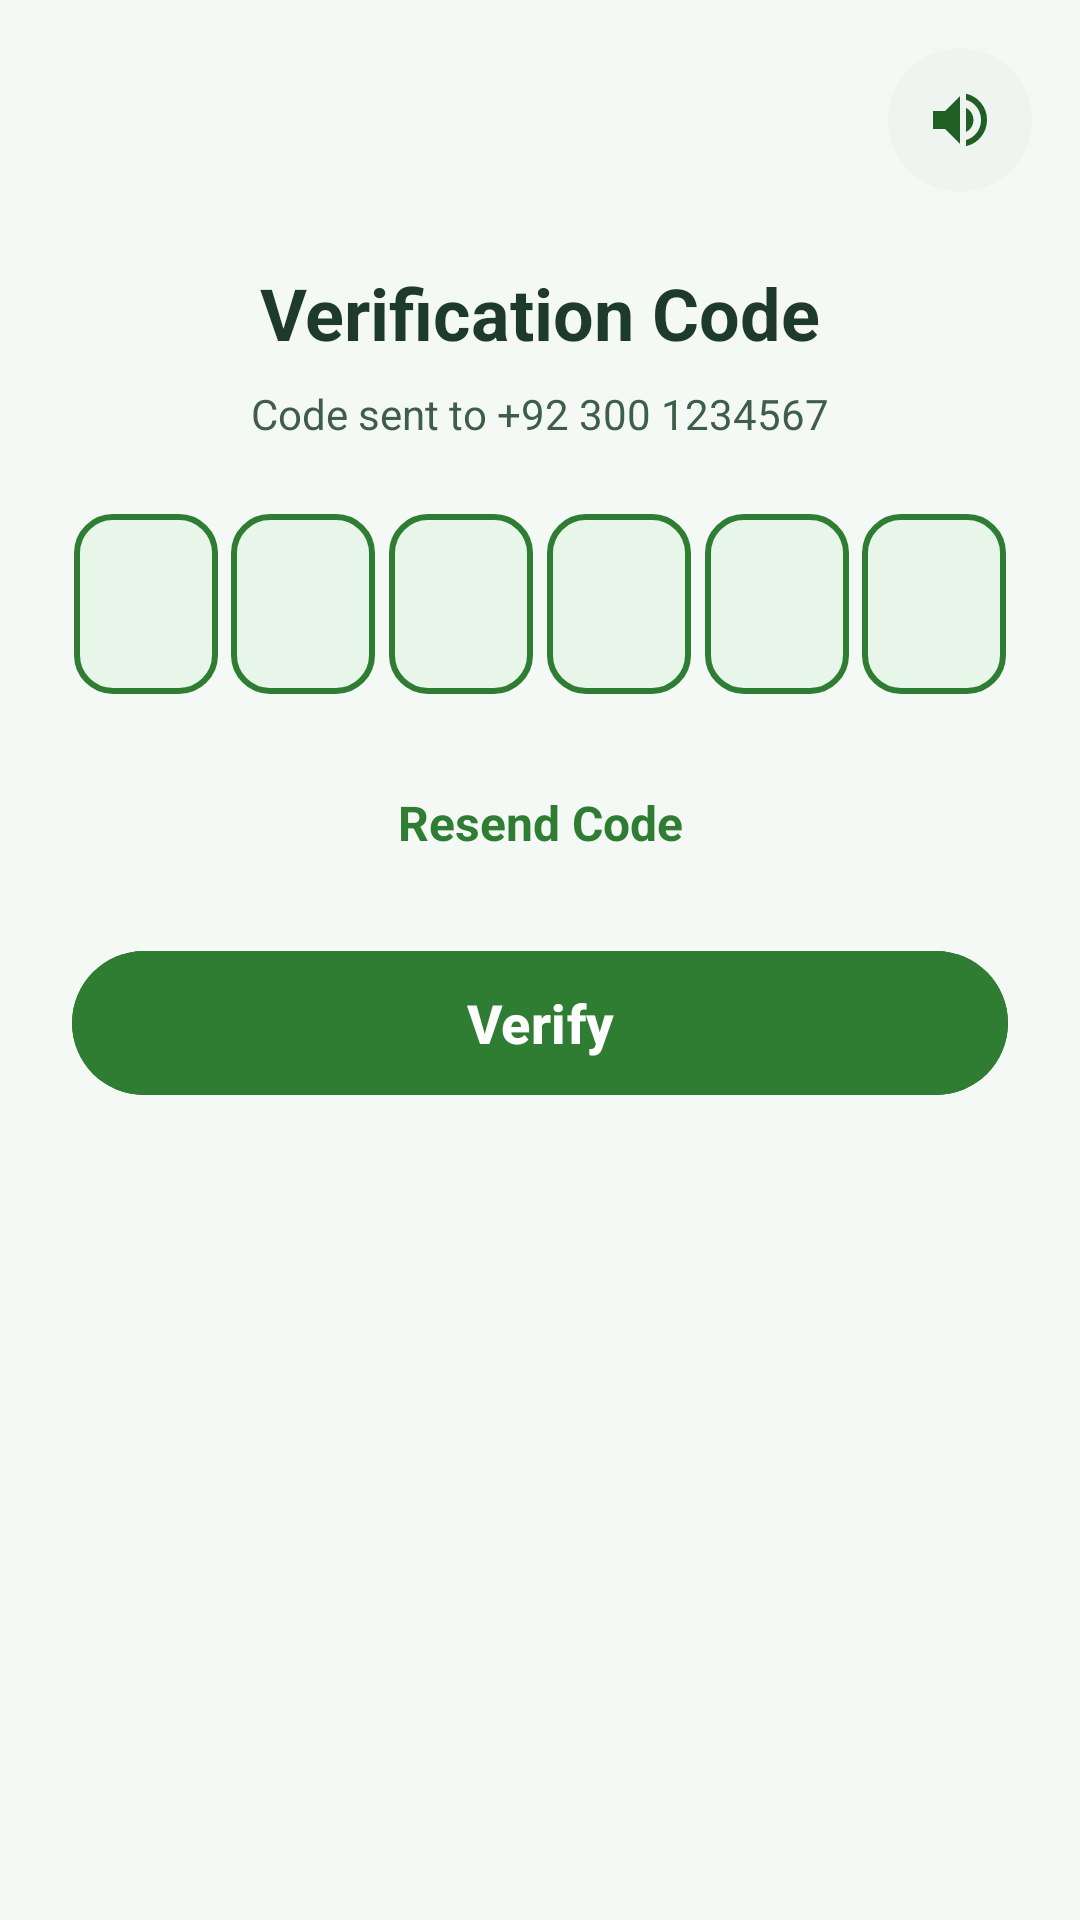

Icons on this 1080 x 1920 Android screen, each with its box as (x1, y1, x2, y2):
volume up: (933, 93, 987, 146)
